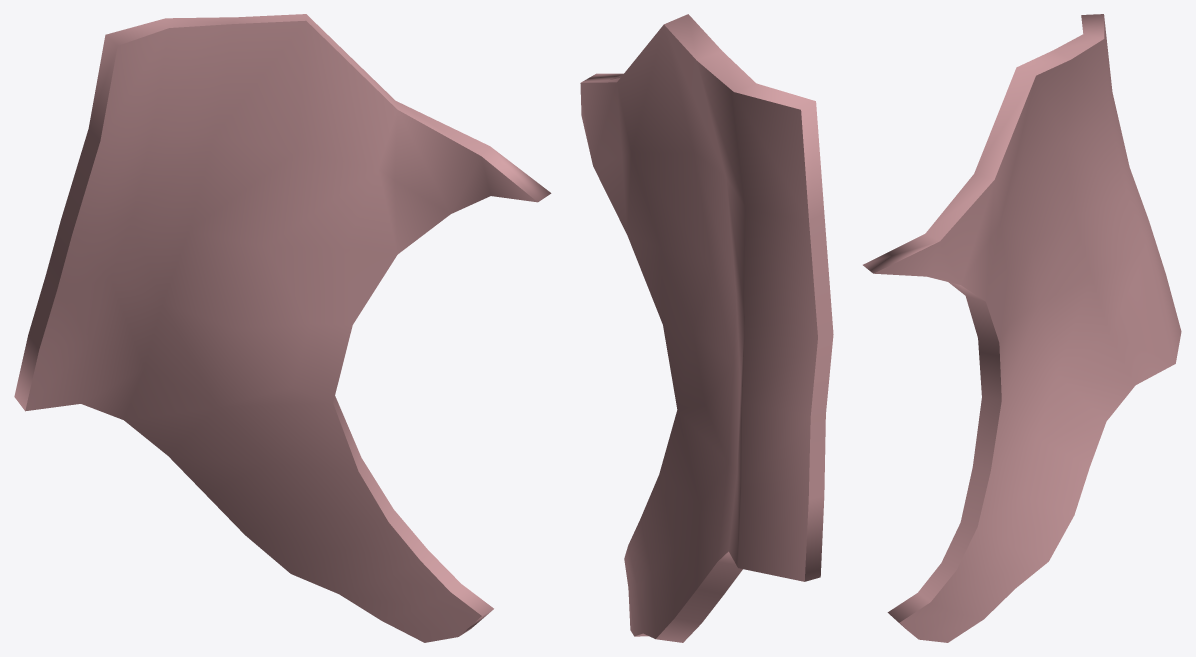
3 views of the same model, side by side, from view 1: azimuth 30°, elevation 25°; view 2: azimuth 150°, elevation 25°; view 3: azimuth 270°, elevation 25° (orthographic). The views are drawn at different scales.
Visible parts, largest first — view 1: ZA_253faa6a33a5c10b; view 2: ZA_253faa6a33a5c10b; view 3: ZA_253faa6a33a5c10b.
Part boxes in pixels (bbox=[...]): ZA_253faa6a33a5c10b: bbox=[14, 14, 551, 642]; ZA_253faa6a33a5c10b: bbox=[580, 14, 833, 642]; ZA_253faa6a33a5c10b: bbox=[863, 14, 1181, 642].
Size of the model in its own units: 0.0487 by 0.0775 by 0.0418.
